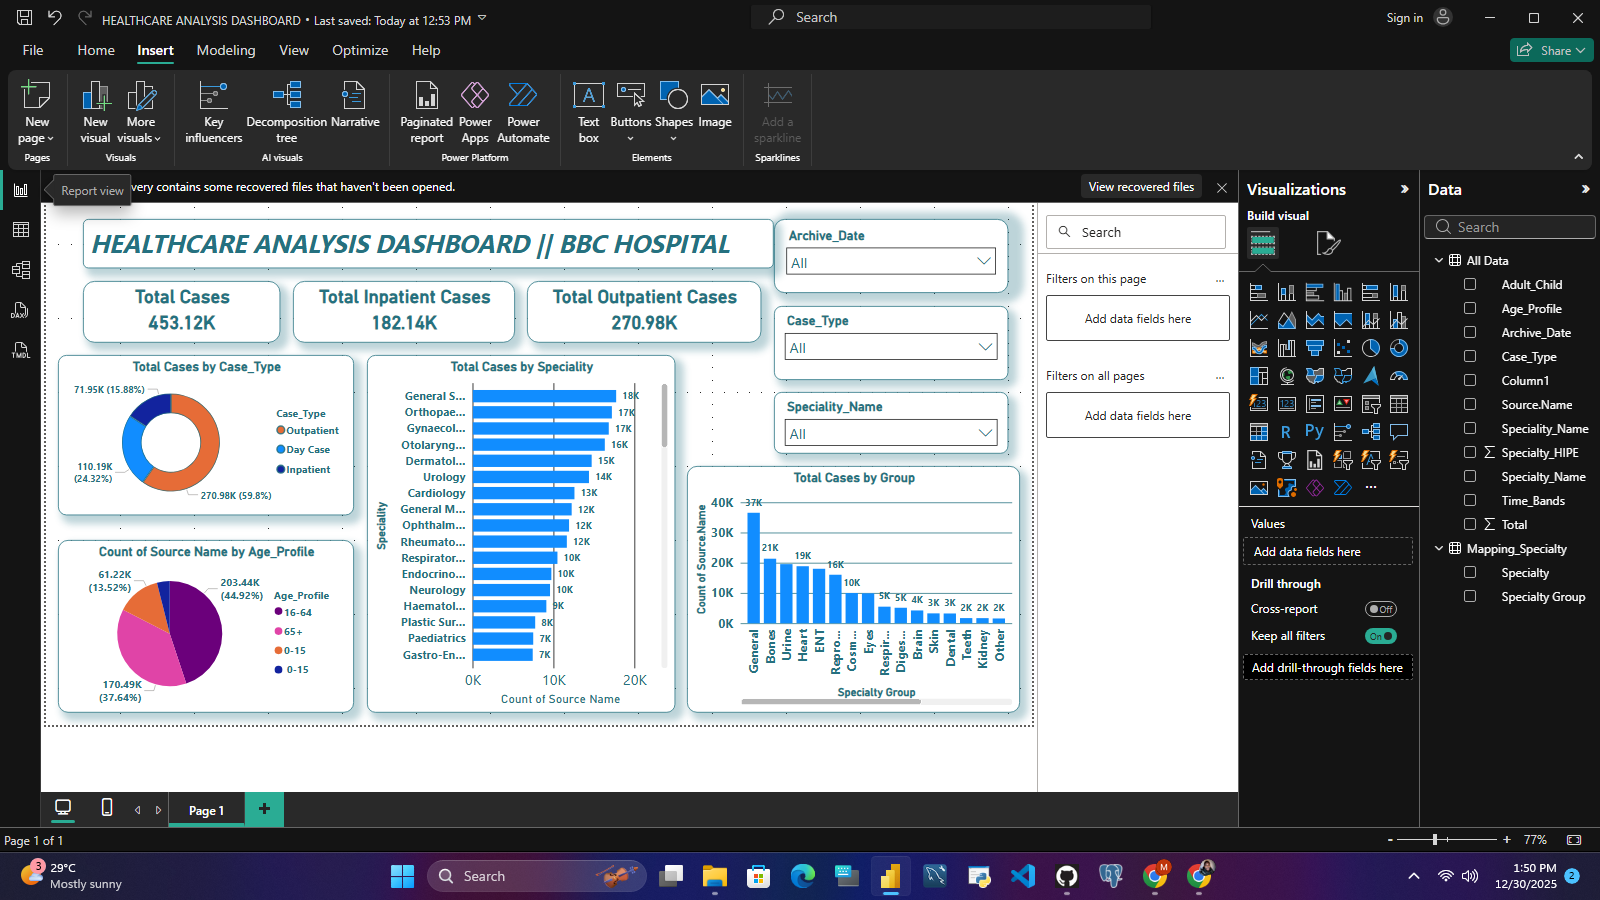

The dashboard page shown, as its layout file describes it:
{"tool":"powerbi","page":{"name":"Page 1","canvas":[1280,720],"ordinal":0},"visuals":[{"type":"card","title":"Total Cases","fields":{"Values":["CountNonNull(All Data.Source.Name)"]},"box":[48,144,256,80],"z":0},{"type":"card","title":"Total Inpatient Cases","fields":{"Values":["CountNonNull(All Data.Source.Name)"]},"box":[320,144,288,80],"z":1},{"type":"card","title":"Total Outpatient Cases","fields":{"Values":["CountNonNull(All Data.Source.Name)"]},"box":[624,144,304,80],"z":2},{"type":"slicer","fields":{"Values":["All Data.Archive_Date"]},"box":[944,64,304,96],"z":3},{"type":"slicer","fields":{"Values":["All Data.Case_Type"]},"box":[944,176,304,96],"z":4},{"type":"slicer","fields":{"Values":["All Data.Speciality_Name"]},"box":[944,288,304,80],"z":5},{"type":"donutChart","title":"Total Cases by Case_Type","fields":{"Category":["All Data.Case_Type"],"Y":["CountNonNull(All Data.Source.Name)"]},"box":[16,240,384,208],"z":6},{"type":"clusteredBarChart","title":"Total Cases by Speciality","fields":{"Category":["All Data.Speciality_Name"],"Y":["CountNonNull(All Data.Source.Name)"]},"box":[416,240,400,464],"z":7},{"type":"clusteredColumnChart","title":"Total Cases by Group","fields":{"Category":["Mapping_Specialty.Specialty Group"],"Y":["CountNonNull(All Data.Source.Name)"]},"box":[832,384,432,320],"z":8},{"type":"pieChart","title":"Count of Source Name by Age_Profile","fields":{"Category":["All Data.Age_Profile"],"Y":["CountNonNull(All Data.Source.Name)"]},"box":[16,480,384,224],"z":9},{"type":"textbox","box":[48,64,896,64],"z":10}]}

Visuals, with their boxes on the page's 1280x720 design canvas (x1, y1, x2, y2). These are canvas units, not pixel positions in the 1600x900 screenshot, which may show the page scaled, cropped or inside an application window:
"Total Cases" card: l=48, t=144, r=304, b=224
"Total Inpatient Cases" card: l=320, t=144, r=608, b=224
"Total Outpatient Cases" card: l=624, t=144, r=928, b=224
slicer - All Data.Archive_Date: l=944, t=64, r=1248, b=160
slicer - All Data.Case_Type: l=944, t=176, r=1248, b=272
slicer - All Data.Speciality_Name: l=944, t=288, r=1248, b=368
"Total Cases by Case_Type" donutChart: l=16, t=240, r=400, b=448
"Total Cases by Speciality" clusteredBarChart: l=416, t=240, r=816, b=704
"Total Cases by Group" clusteredColumnChart: l=832, t=384, r=1264, b=704
"Count of Source Name by Age_Profile" pieChart: l=16, t=480, r=400, b=704
textbox: l=48, t=64, r=944, b=128
